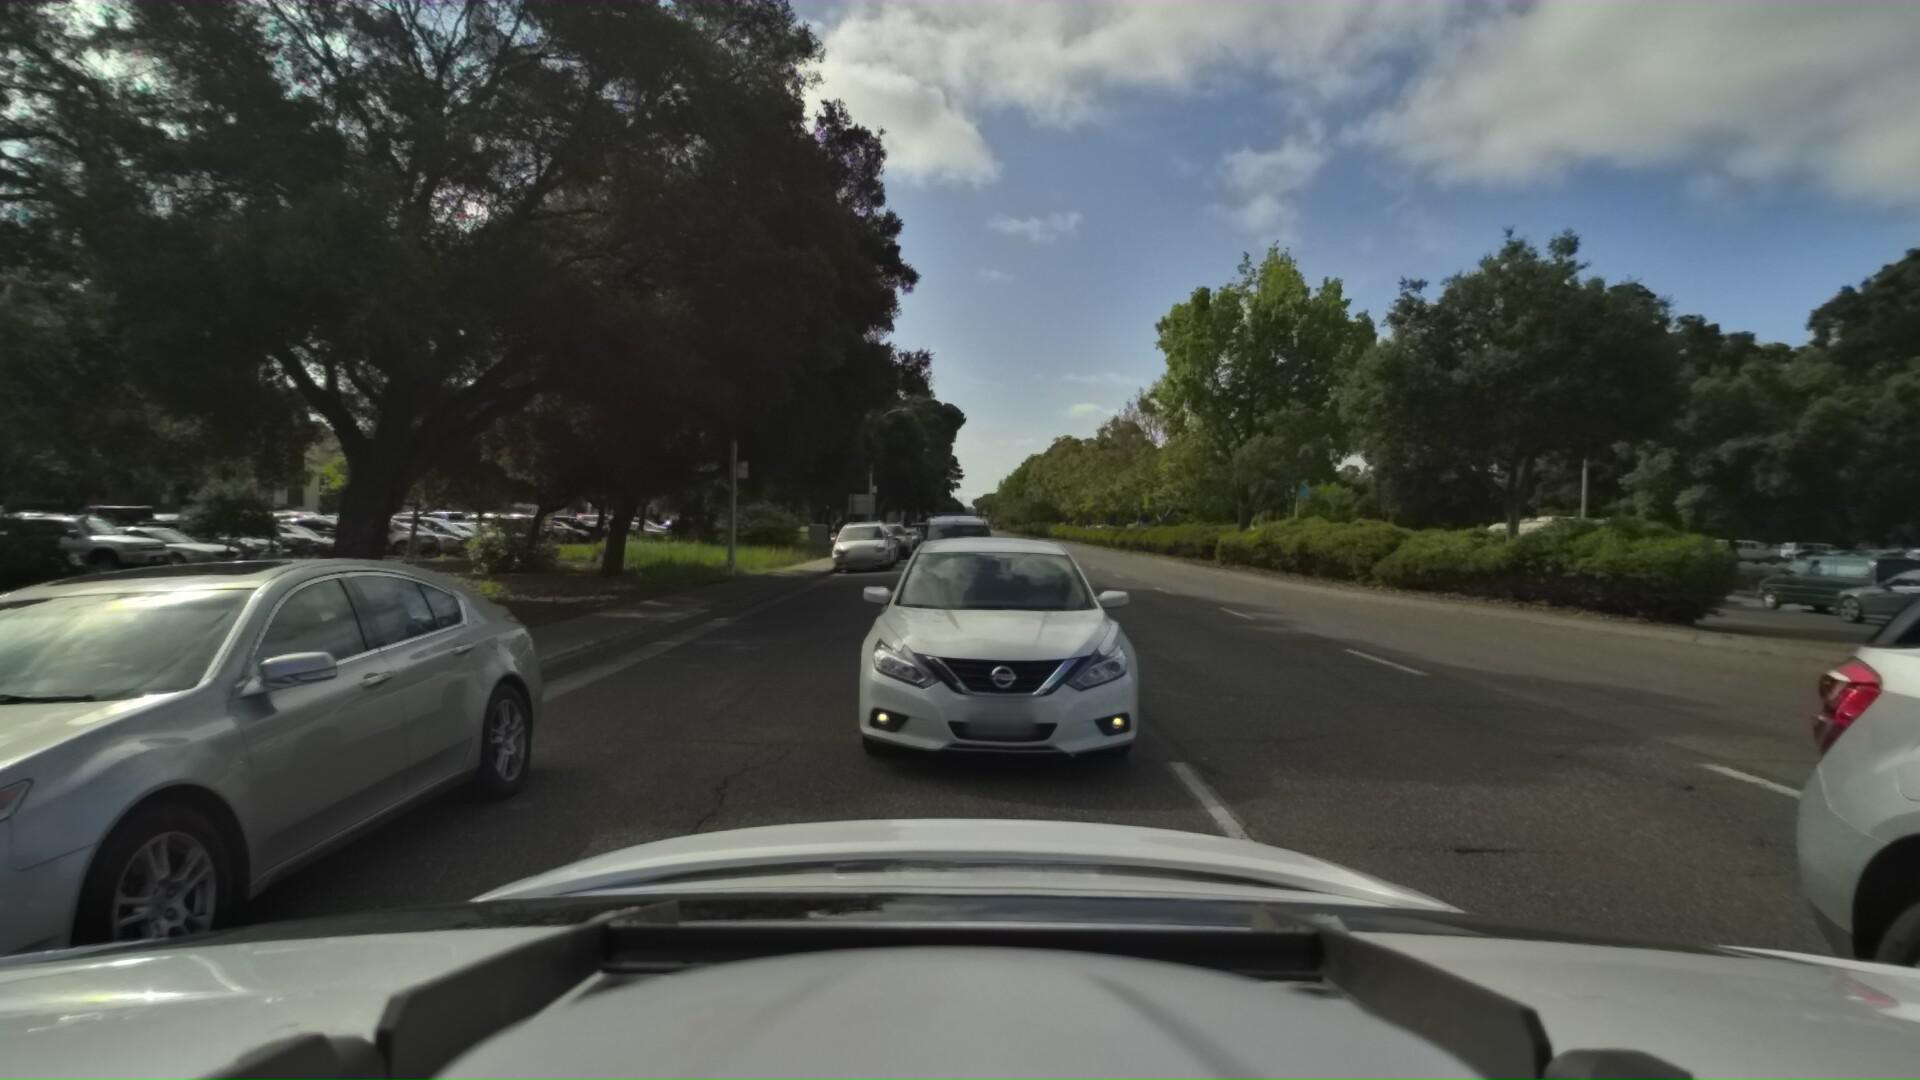bicycle: (819, 512, 849, 558)
car: (853, 526, 1184, 812), (1741, 543, 1920, 618), (1818, 551, 1920, 644), (910, 498, 997, 596), (827, 518, 895, 578), (847, 526, 899, 568), (862, 520, 910, 564), (887, 527, 920, 553)
other_vehicle: (1464, 509, 1629, 589)
